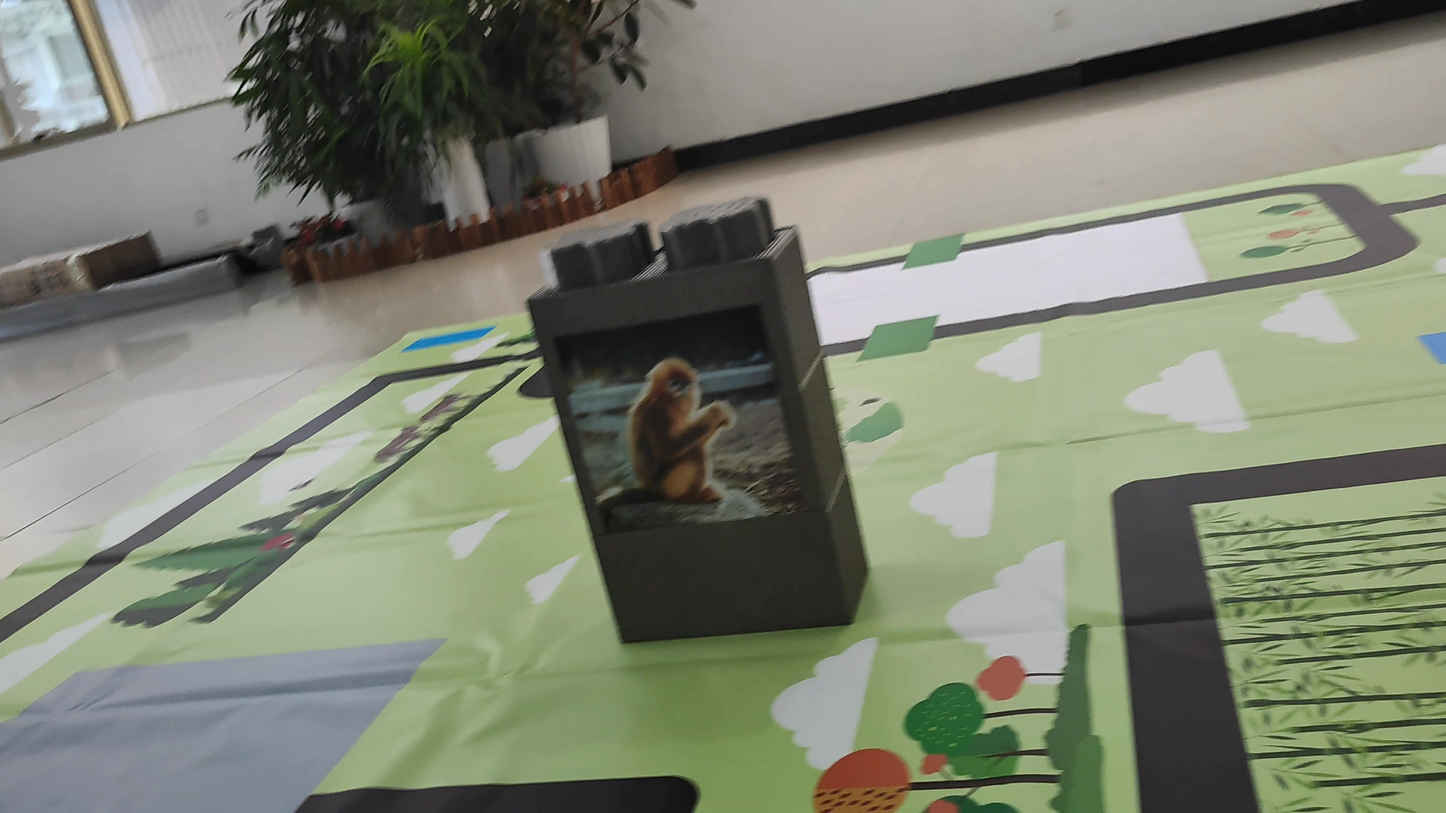monkey: (585, 328, 787, 532)
